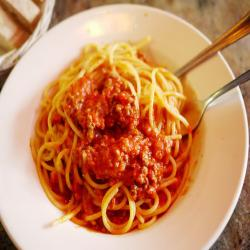bolonese_pasta: (27, 36, 220, 239)
